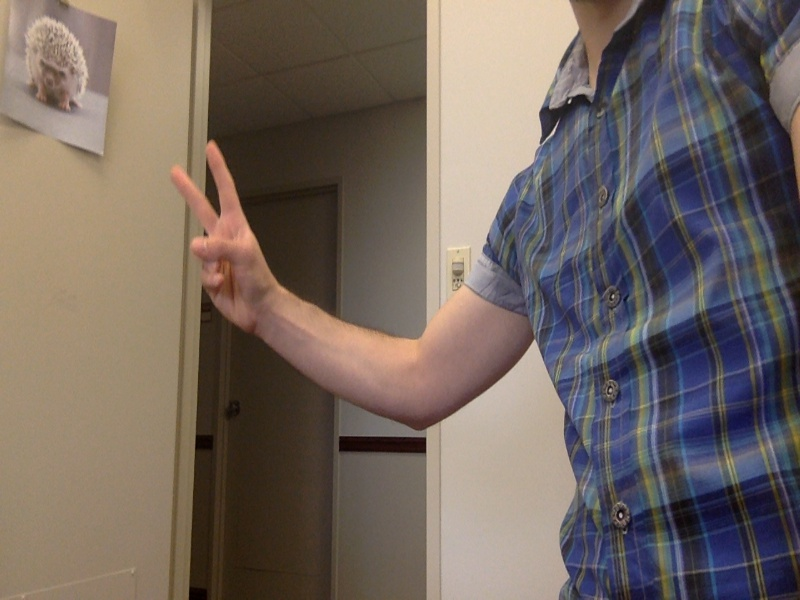2-hand: (163, 139, 268, 345)
